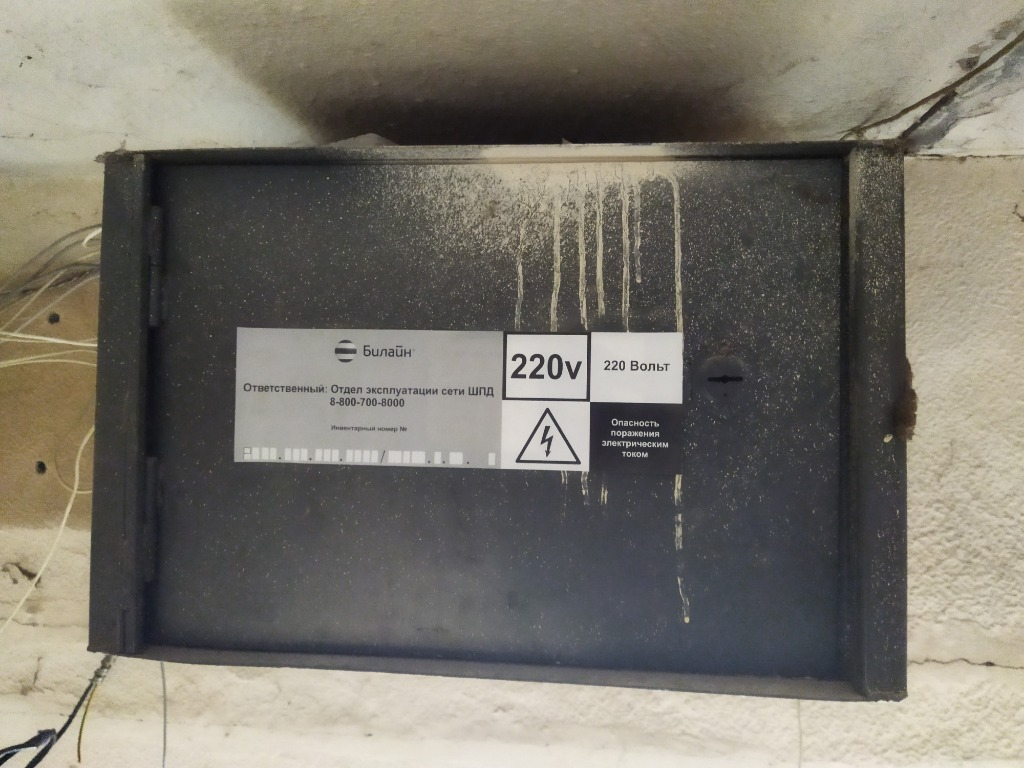e2-6u: (81, 132, 918, 709)
